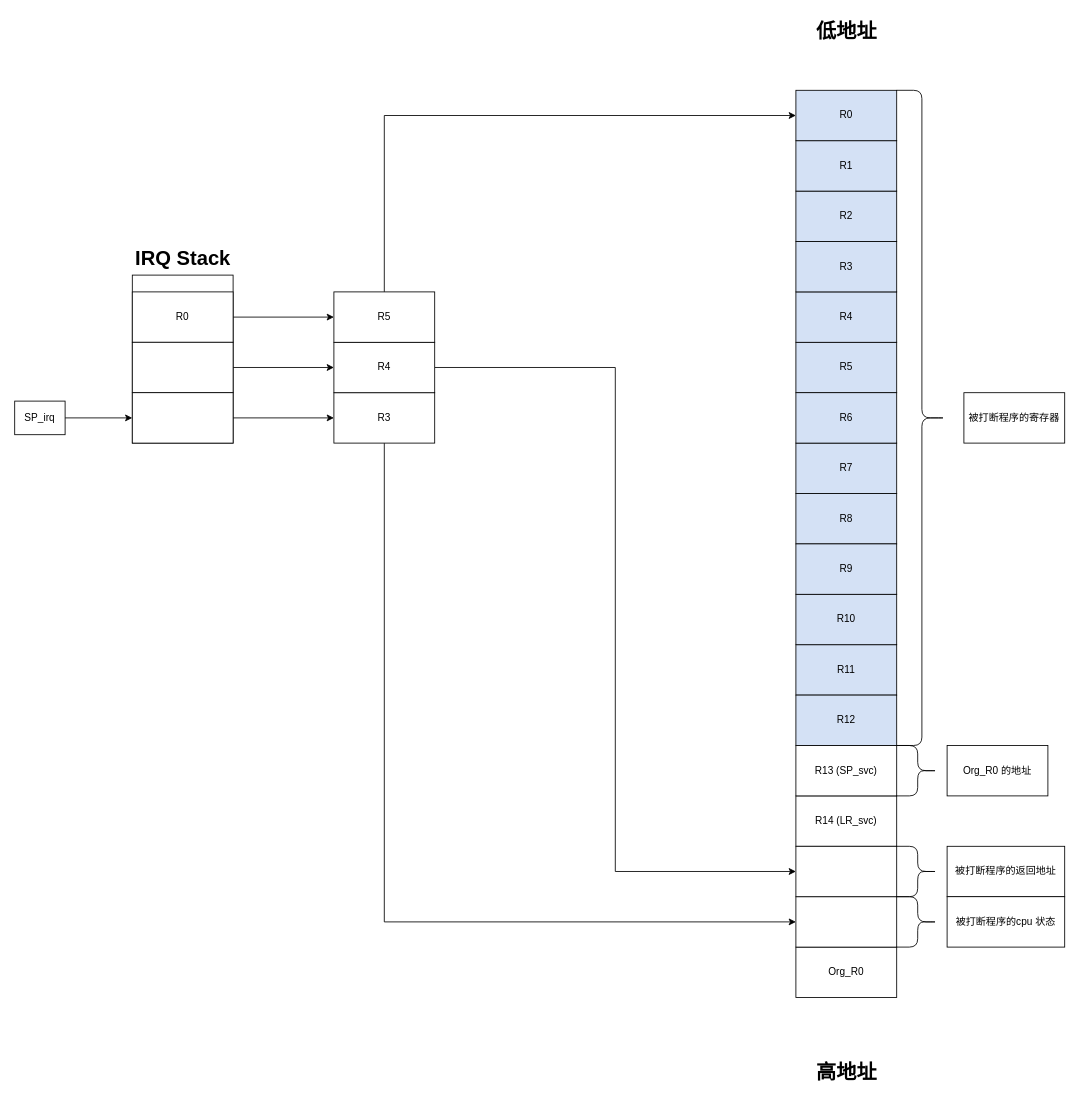
This 1079x1104 diagram has some shape labels left out. Here are the shapes that lost their labels. From the top down, the centre of each, then its label:
At point 182,367: "LR".
At point 182,417: "SPSR".
At point 846,871: "R15 (PC)".
At point 846,921: "CPSR".
